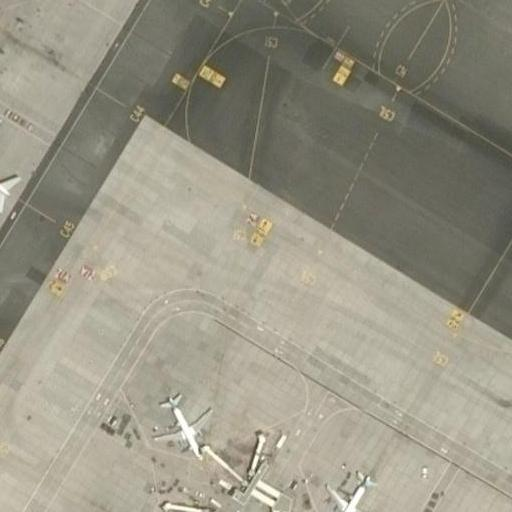Aircraft: (152, 387, 214, 458), (0, 114, 25, 221), (323, 467, 381, 512)
